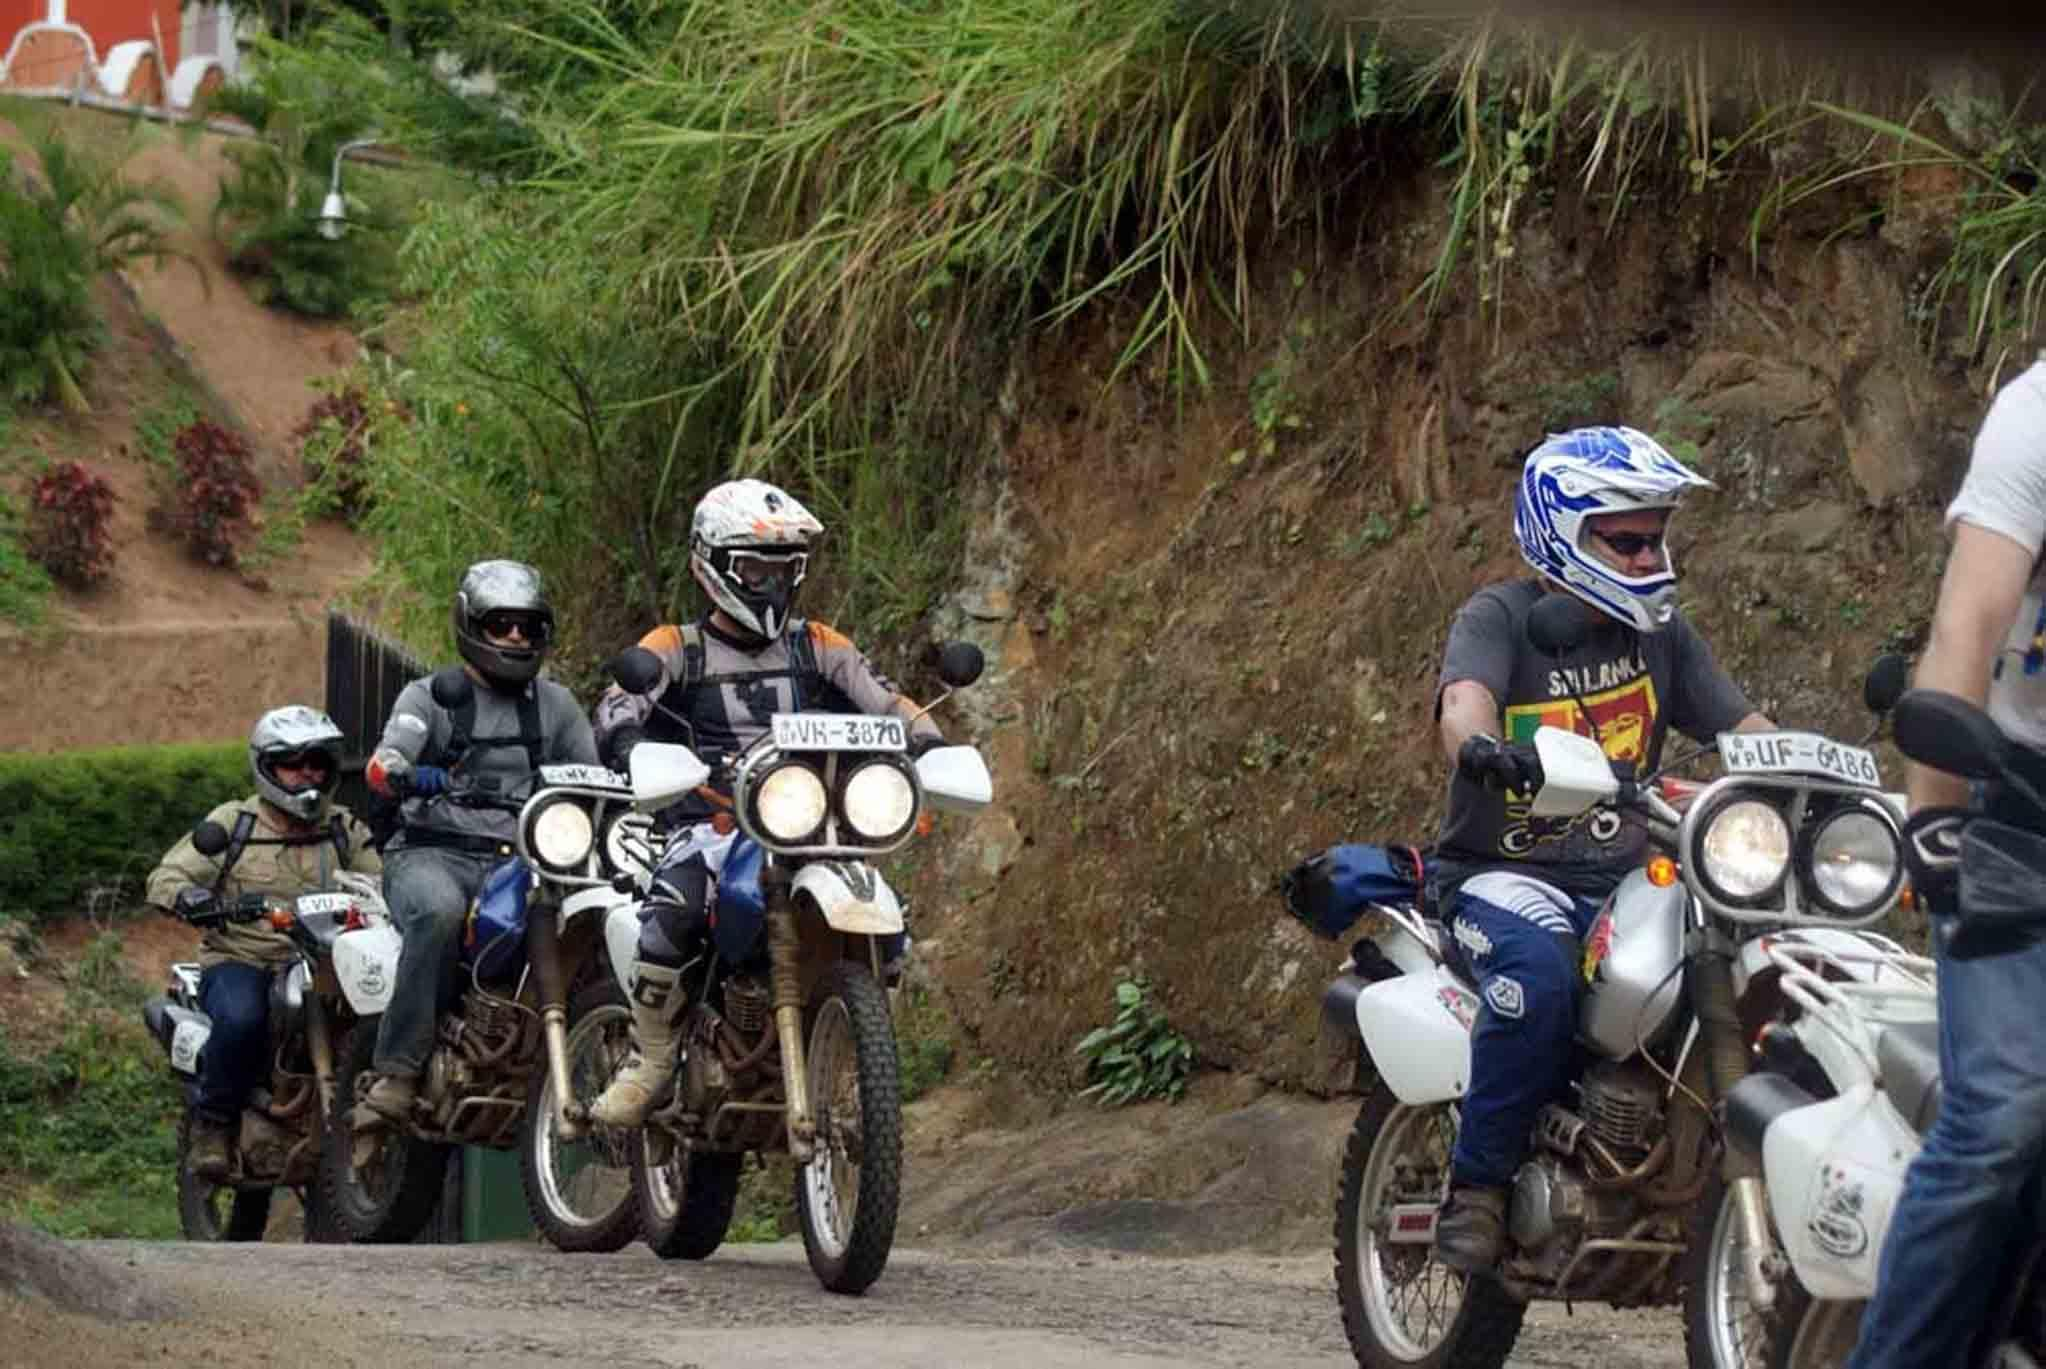motorbike: (1279, 599, 1947, 1369), (605, 640, 993, 1296), (318, 671, 652, 1251), (151, 827, 435, 1244)
